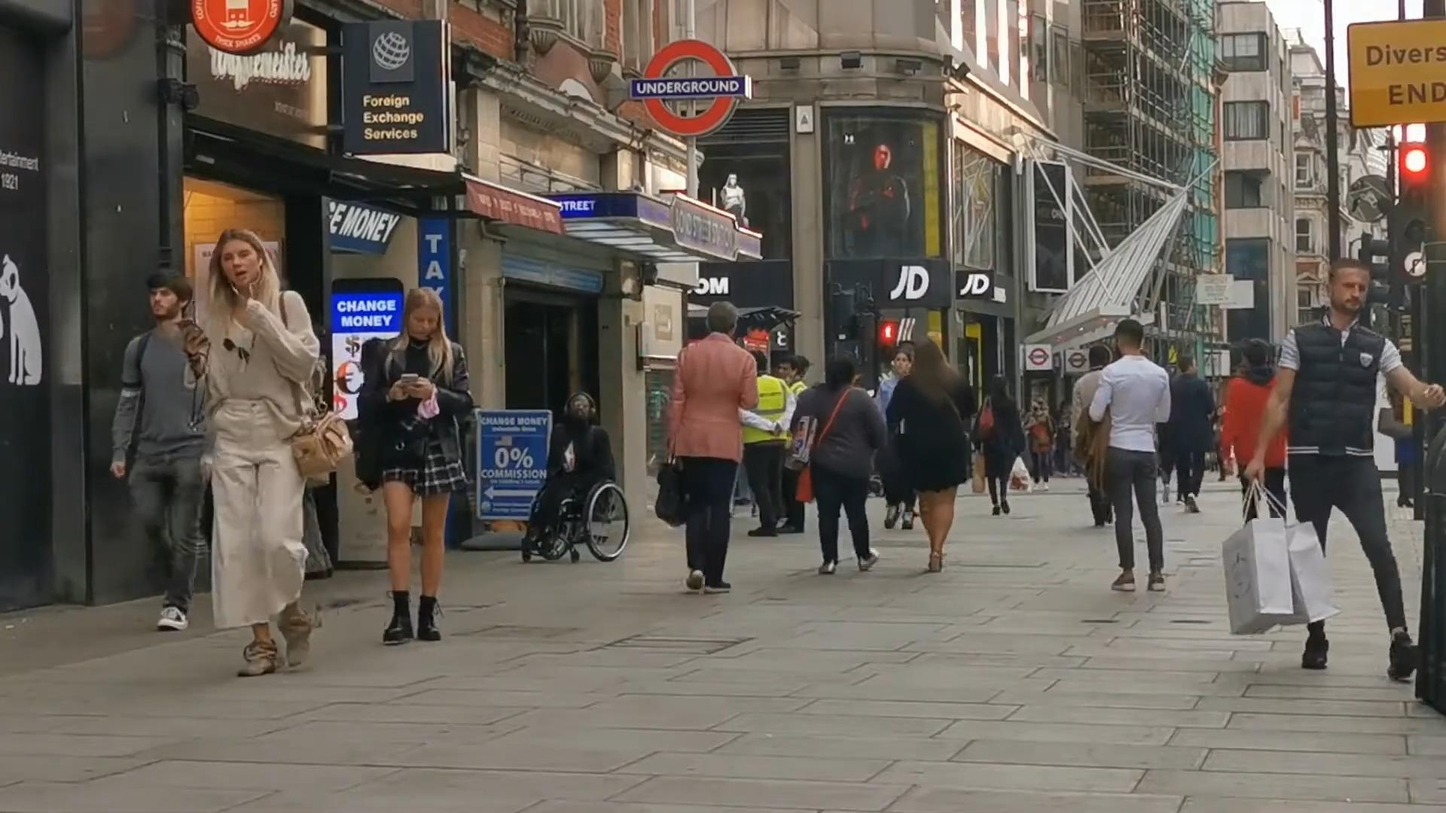no-helmet: (209, 227, 280, 293), (147, 269, 192, 325), (1328, 257, 1370, 315), (402, 287, 444, 340), (912, 338, 955, 376), (705, 302, 739, 340), (1112, 319, 1143, 359), (825, 352, 856, 391), (1089, 343, 1112, 367), (894, 349, 911, 373)
